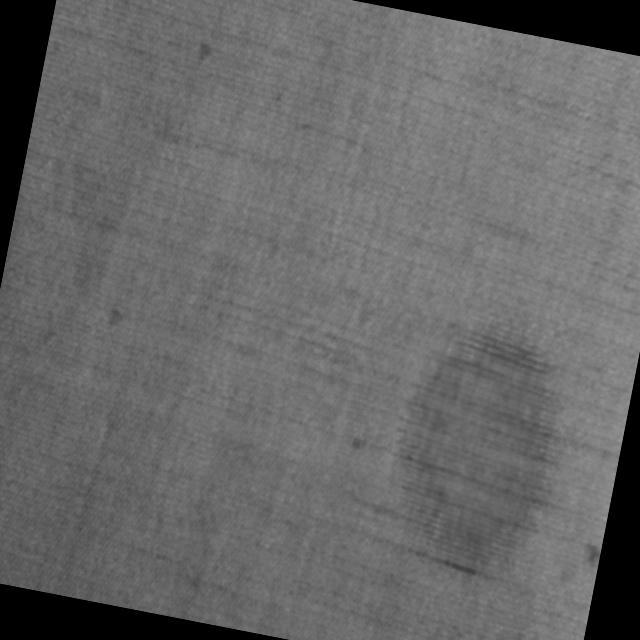oil spot: (369, 302, 581, 598)
